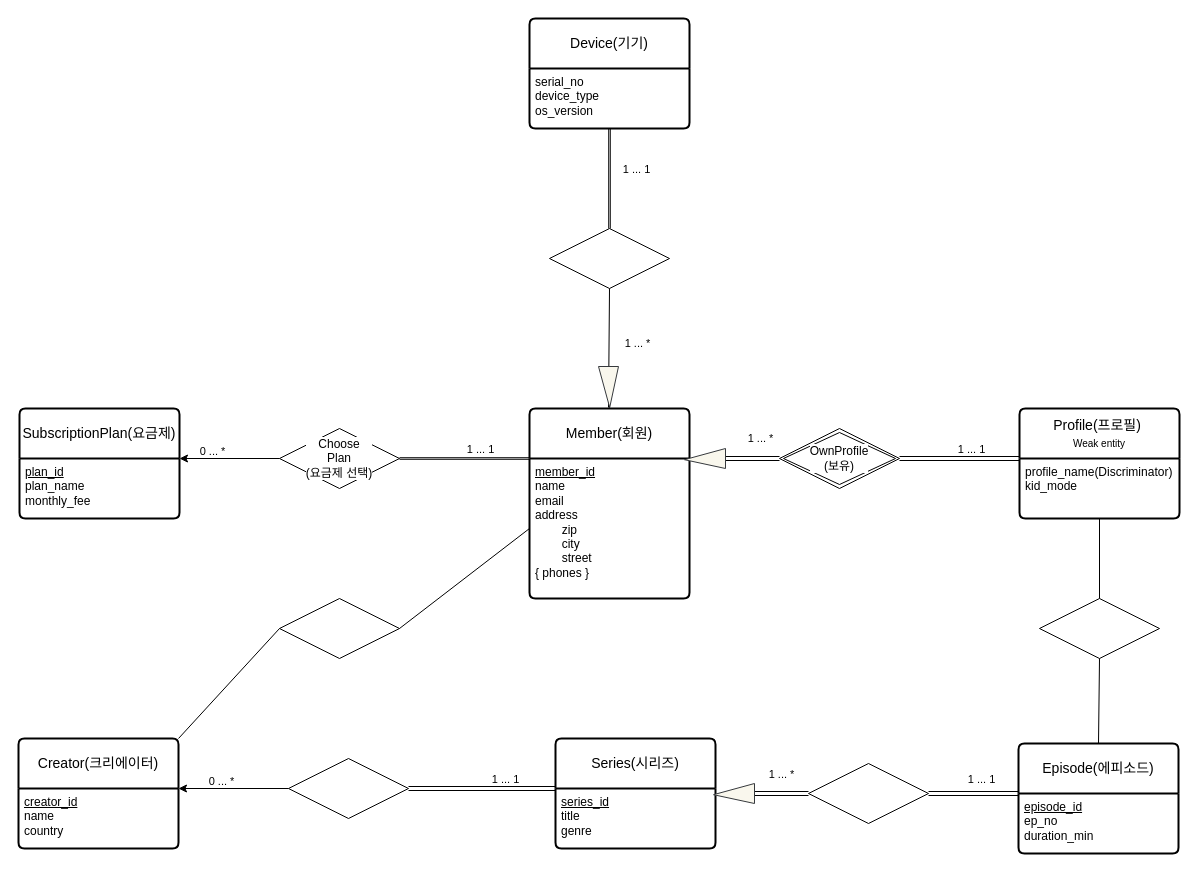
Image size: 1197x871. Some labels were removed from this diagram. The centre of each missing label's shape, as x and y in pixels:
Create (제작): the point at 348,788
Follow (팔로우): the point at 339,628
HasEpisode (구성): the point at 868,793
Register (기기 등록): the point at 609,258
Watch (시청): the point at 1099,628
